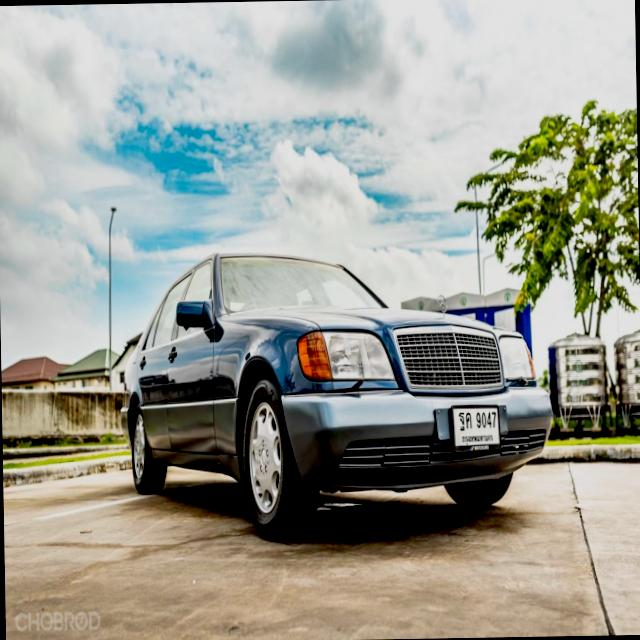license_plate: (448, 402, 501, 458)
